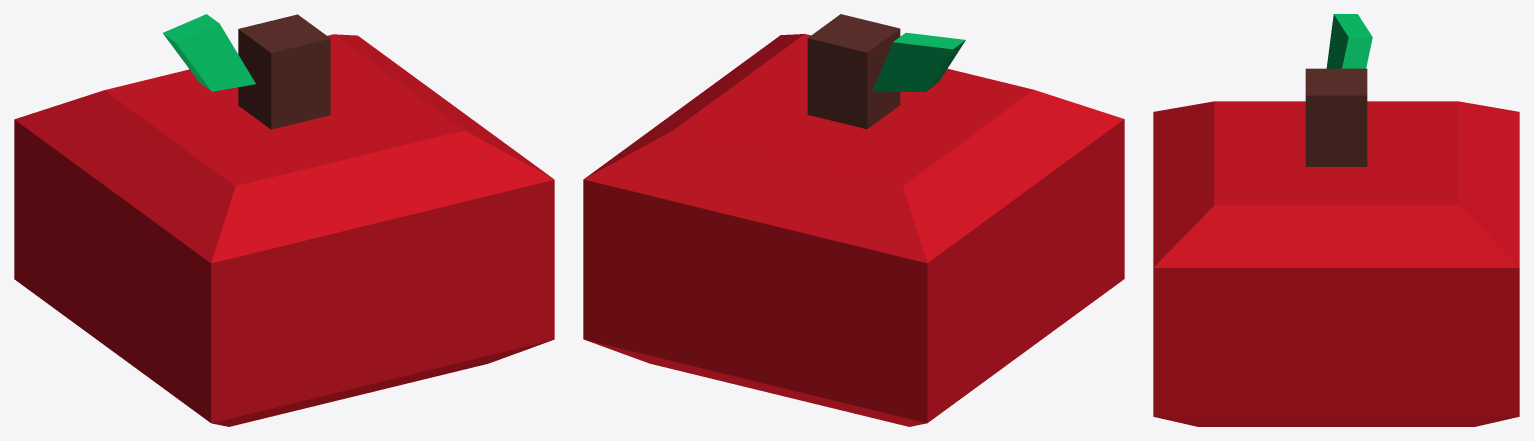
Rendered from apple.glb.
The picture shows the model from 3 angles, left to right: view 1: azimuth 30°, elevation 25°; view 2: azimuth 150°, elevation 25°; view 3: azimuth 270°, elevation 25°; orthographic projection. The views are drawn at different scales.
Visible parts, largest first — view 1: Cube.017, Cube.018, Cube.020; view 2: Cube.017, Cube.018, Cube.020; view 3: Cube.017, Cube.018, Cube.020.
Part boxes in pixels (x1,y1,x2,y2): Cube.017: (14, 34, 554, 426); Cube.018: (238, 14, 330, 129); Cube.020: (163, 14, 255, 91); Cube.017: (583, 34, 1124, 426); Cube.018: (807, 14, 900, 129); Cube.020: (872, 32, 965, 92); Cube.017: (1153, 101, 1519, 426); Cube.018: (1305, 68, 1367, 166); Cube.020: (1326, 14, 1372, 68).
Size of the model in its own units: 0.8902 by 0.8094 by 0.8836.
